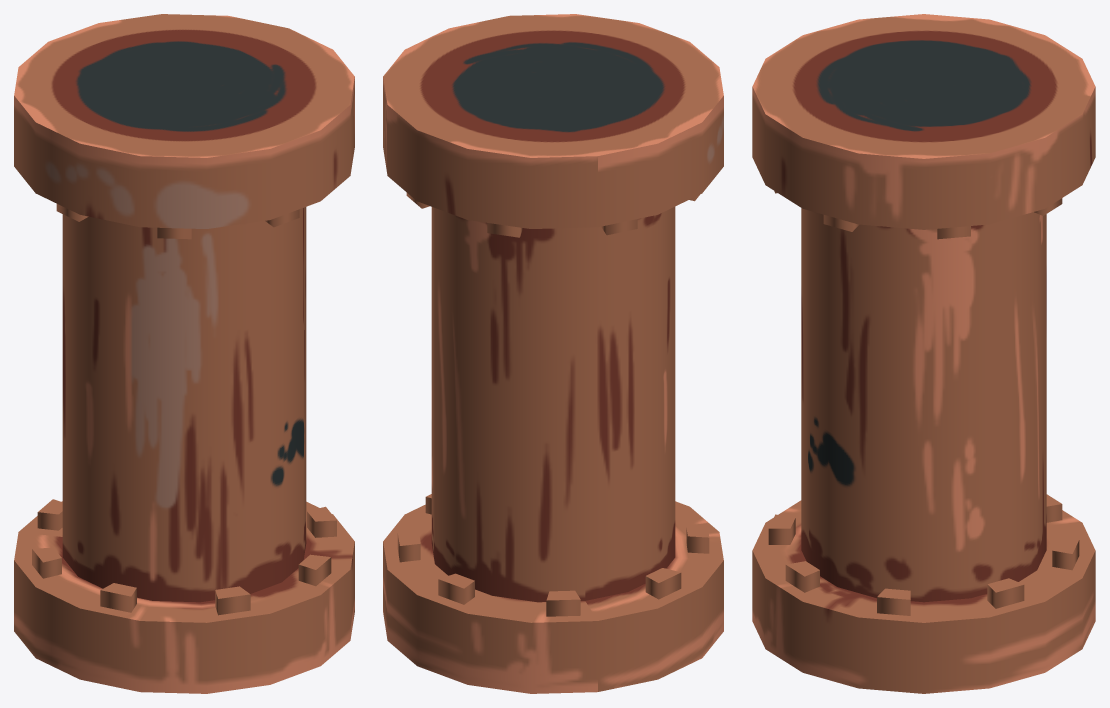
File: Pipe1.glb
3 renders of one model, left to right at view 1: azimuth 30°, elevation 25°; view 2: azimuth 150°, elevation 25°; view 3: azimuth 270°, elevation 25°, orthographic.
Visible parts, largest first — view 1: Pipe1; view 2: Pipe1; view 3: Pipe1.
Part boxes in pixels (box(x1,y1,x2,y2)): Pipe1: box(14, 14, 354, 693); Pipe1: box(383, 14, 723, 693); Pipe1: box(752, 14, 1095, 693).
Size of the model in its own units: 0.8758 by 1.51 by 0.8759.
1 material, 1 textured.
